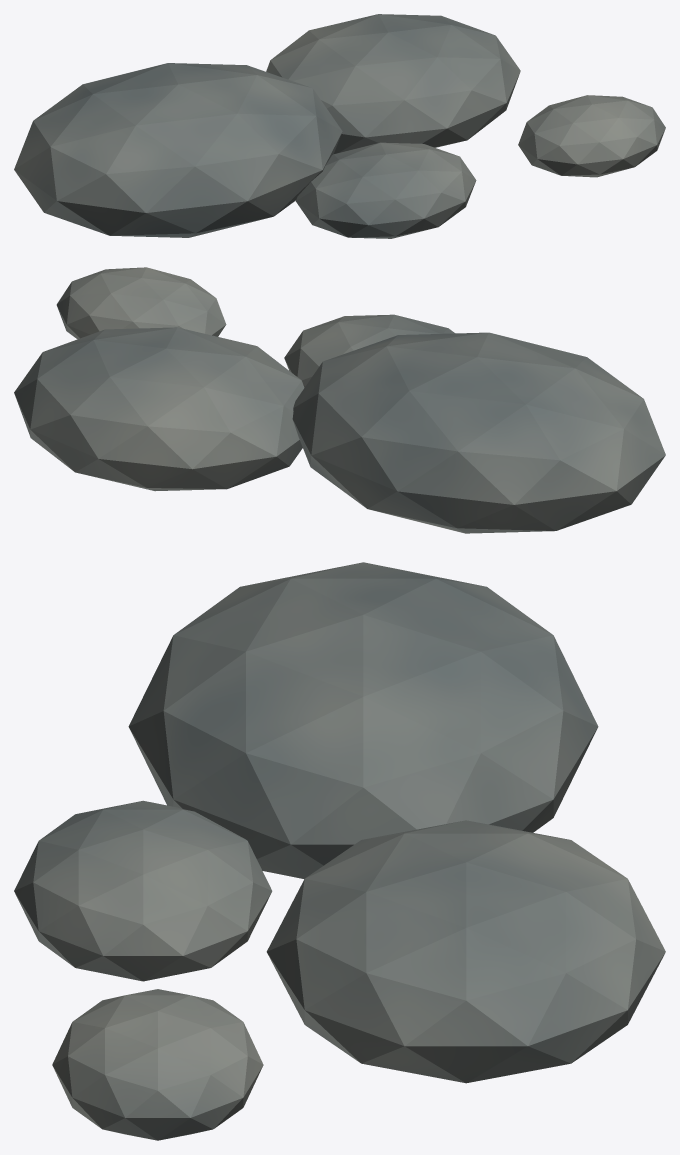
Rendered from river_pebbles.glb.
The picture shows the model from 3 angles, top to bottom: view 1: azimuth 30°, elevation 25°; view 2: azimuth 150°, elevation 25°; view 3: azimuth 270°, elevation 25°; orthographic projection. The views are drawn at different scales.
Parts seen in each view (by area): view 1: river_pebbles_Mesh; view 2: river_pebbles_Mesh; view 3: river_pebbles_Mesh.
Part boxes in pixels (<box>): river_pebbles_Mesh: <box>14,14,665,238</box>; river_pebbles_Mesh: <box>14,267,665,533</box>; river_pebbles_Mesh: <box>14,562,665,1140</box>.
Size of the model in its own units: 0.7458 by 0.1712 by 0.444.
Materials: 1 (1 with a texture image).
